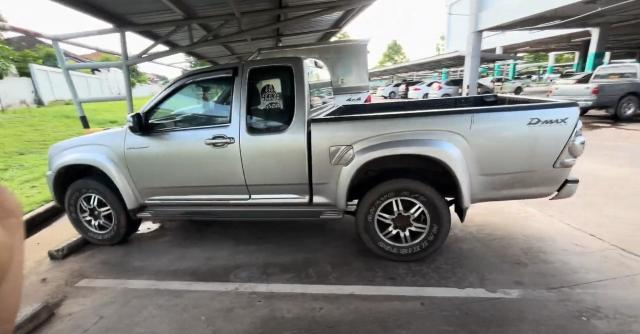pickup-truck: (47, 58, 586, 257)
